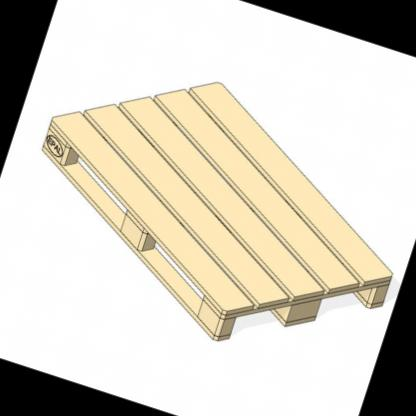BoxFace: (39, 78, 395, 347)
